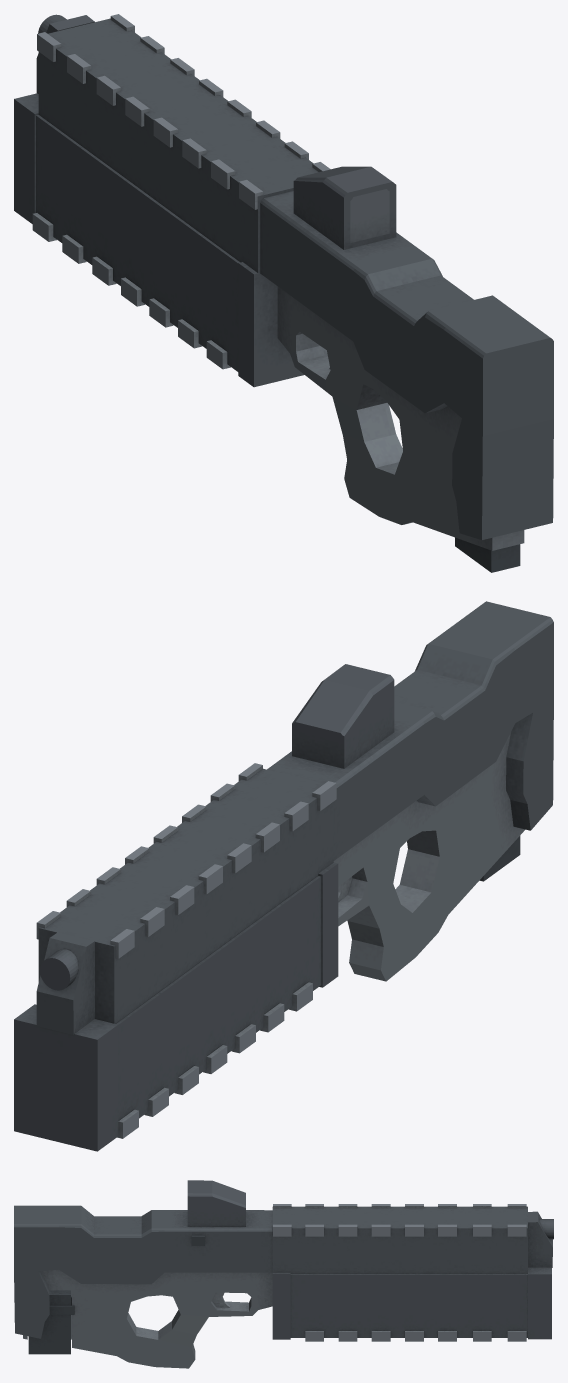
File: railgun.glb
The picture shows the model from 3 angles, top to bottom: view 1: azimuth 30°, elevation 25°; view 2: azimuth 150°, elevation 25°; view 3: azimuth 270°, elevation 25°; orthographic projection. The views are drawn at different scales.
Parts seen in each view (by area): view 1: railgun, InsertedAmmo; view 2: railgun; view 3: railgun, InsertedAmmo.
Part boxes in pixels (box(x1,y1,x2,y2)): railgun: box(14, 14, 553, 550); InsertedAmmo: box(455, 537, 520, 572); railgun: box(14, 601, 553, 1151); railgun: box(14, 1180, 553, 1368); InsertedAmmo: box(28, 1290, 70, 1354).
Size of the model in its own units: 0.1564 by 0.51 by 1.4.
Materials: 1 (1 with a texture image).
